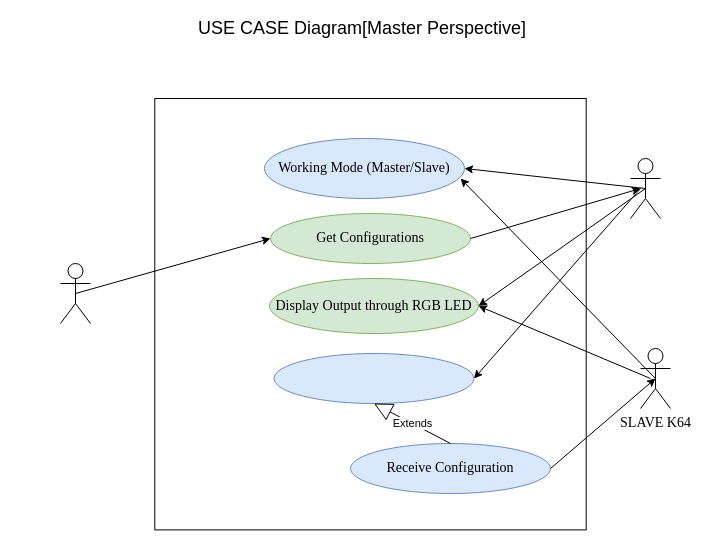
The diagram is 708 pixels wide and 547 high, and some of its shapes have lost their labels. The centre of each missing label's shape, as x and y in pixels:
CUSTOMER/USER: [75,293]
MASTER K64: [645,188]
Transfer Configurations to Slave: [373,378]
